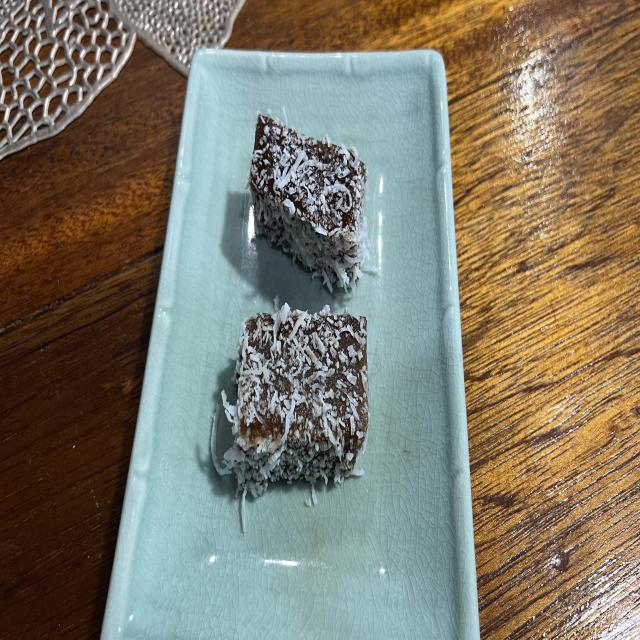kaswi: (211, 304, 369, 524), (249, 113, 369, 291)
